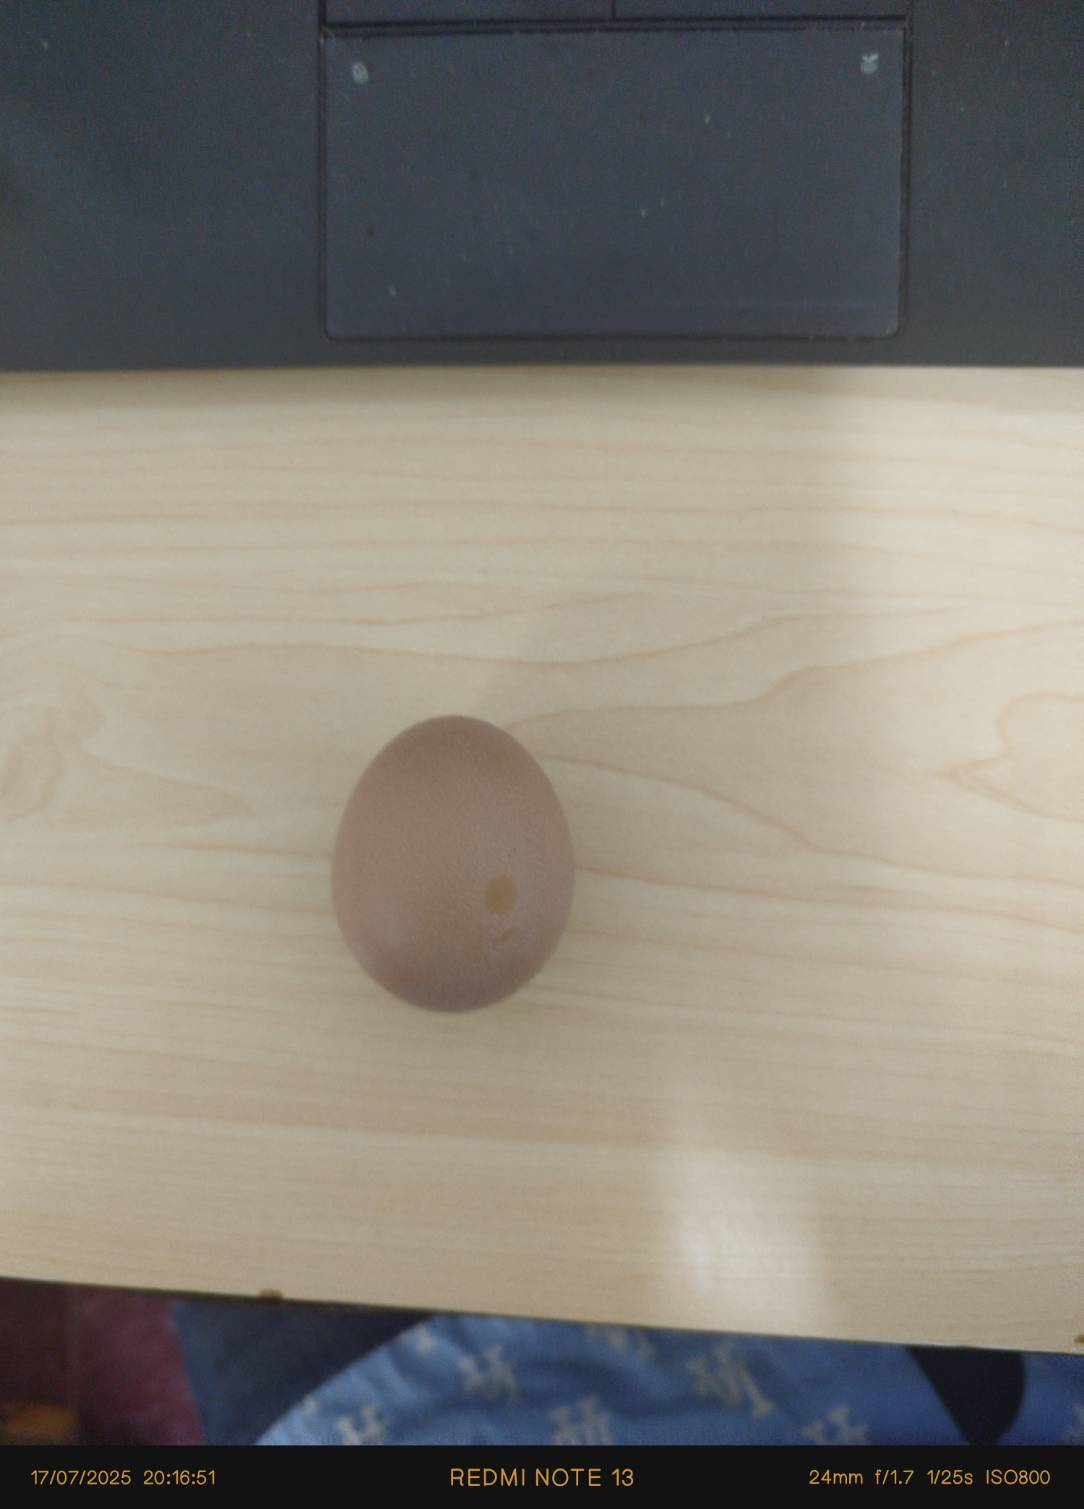egg3: (316, 704, 578, 1016)
